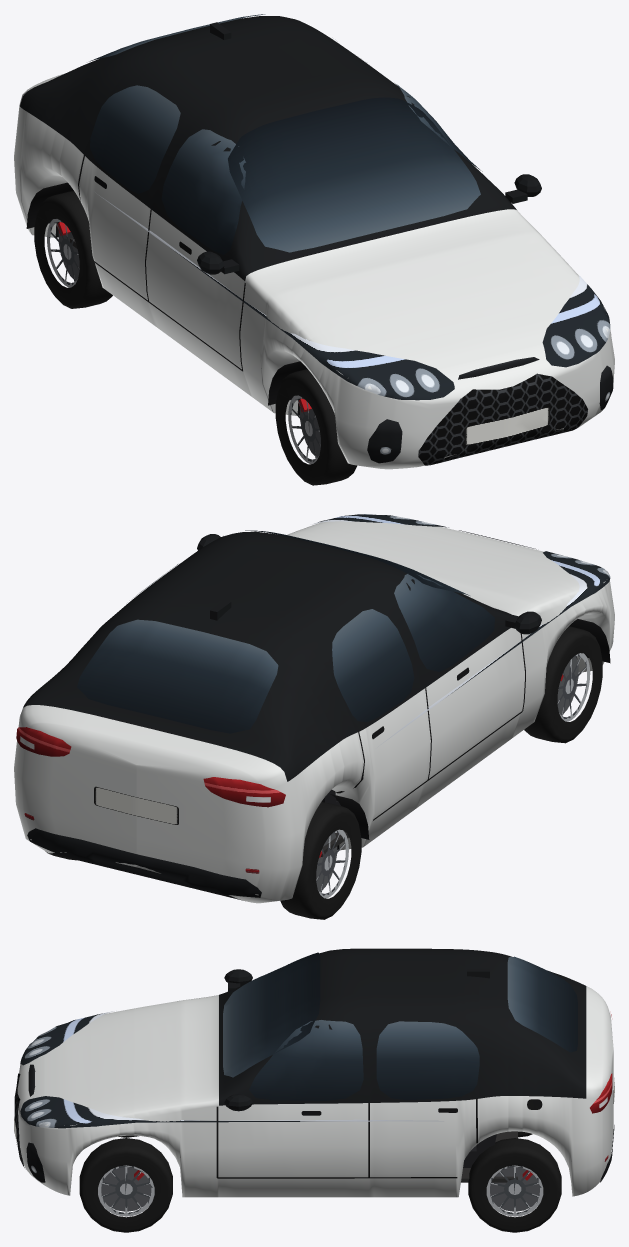
File: teranga.glb
3 views of the same model, one above another, from view 1: azimuth 30°, elevation 25°; view 2: azimuth 150°, elevation 25°; view 3: azimuth 270°, elevation 25° (orthographic). The views are drawn at different scales.
Visible parts, largest first — view 1: body, wheel_fr, wheel_rr, door; view 2: body, wheel_rr, wheel_fr; view 3: body, door, wheel_fl, wheel_rl, cabin.
Boxes of the visible parts, x1,y1,x2,y2 form: body: [14, 14, 614, 469]; wheel_fr: [275, 369, 356, 485]; wheel_rr: [34, 191, 112, 308]; door: [369, 71, 517, 214]; body: [14, 514, 614, 903]; wheel_rr: [280, 802, 361, 919]; wheel_fr: [524, 626, 602, 743]; body: [14, 948, 614, 1197]; door: [118, 1012, 443, 1177]; wheel_fl: [79, 1138, 172, 1232]; wheel_rl: [468, 1138, 561, 1232]; cabin: [461, 1131, 517, 1182].
Size of the model in its own units: 2.08 by 1.53 by 3.96.
Materials: 2 (1 with a texture image).
